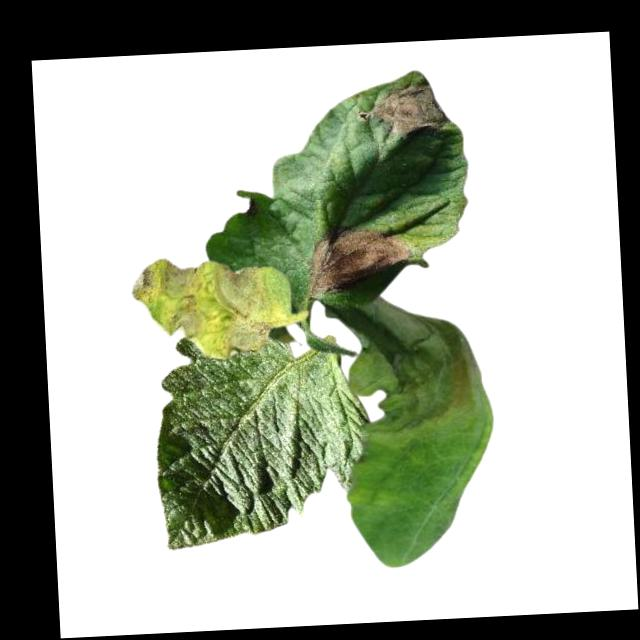Late_blight: (322, 295, 490, 429), (129, 253, 294, 364), (300, 220, 416, 299), (369, 77, 450, 137)
healthy: (150, 332, 378, 550)
